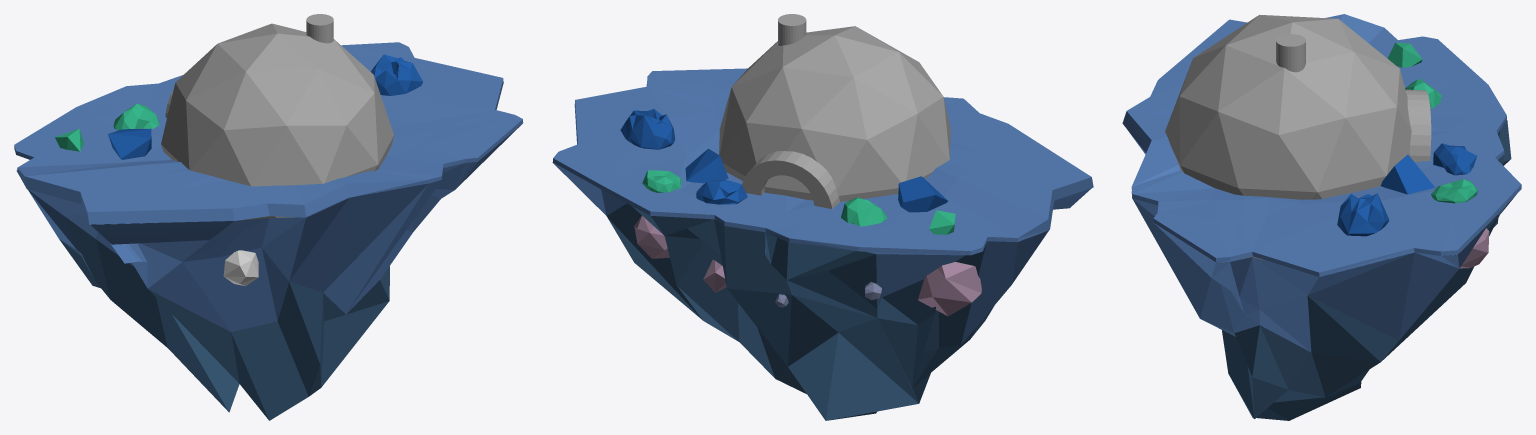
The model's file is island3_base.obj.
3 renders of one model, left to right at view 1: azimuth 30°, elevation 25°; view 2: azimuth 150°, elevation 25°; view 3: azimuth 270°, elevation 25°, orthographic. The views are drawn at different scales.
Parts seen in each view (by area): view 1: Plane.001_Plane.002, Icosphere.006_Icosphere.005, Icosphere.007_Icosphere.016, Icosphere.012_Icosphere.019, Icosphere.009_Icosphere.010, Icosphere.002_Icosphere.000, Cylinder.001_Cylinder.003; view 2: Plane.001_Plane.002, Icosphere.006_Icosphere.005, Icosphere.003, Cylinder_Cylinder.001, Icosphere.007_Icosphere.016, Icosphere.012_Icosphere.019, Icosphere.014_Icosphere.020, Icosphere.010_Icosphere.017, Icosphere.002_Icosphere.000, Cylinder.001_Cylinder.003, Icosphere.008_Icosphere.015, Icosphere.011_Icosphere.018; view 3: Plane.001_Plane.002, Icosphere.006_Icosphere.005, Icosphere.007_Icosphere.016, Cylinder_Cylinder.001, Icosphere.010_Icosphere.017, Icosphere.014_Icosphere.020, Cylinder.001_Cylinder.003, Icosphere.008_Icosphere.015, Icosphere.011_Icosphere.018, Icosphere.003, Icosphere.002_Icosphere.000.
Part boxes in pixels (left/top/right/bottom): Plane.001_Plane.002: left=14, top=42, right=523, bottom=420; Icosphere.006_Icosphere.005: left=161, top=23, right=393, bottom=220; Icosphere.007_Icosphere.016: left=370, top=54, right=422, bottom=95; Icosphere.012_Icosphere.019: left=108, top=128, right=151, bottom=159; Icosphere.009_Icosphere.010: left=223, top=250, right=258, bottom=286; Icosphere.002_Icosphere.000: left=113, top=103, right=159, bottom=130; Cylinder.001_Cylinder.003: left=306, top=14, right=333, bottom=43; Plane.001_Plane.002: left=552, top=68, right=1093, bottom=420; Icosphere.006_Icosphere.005: left=719, top=26, right=950, bottom=201; Icosphere.003: left=634, top=215, right=981, bottom=316; Cylinder_Cylinder.001: left=742, top=151, right=839, bottom=208; Icosphere.007_Icosphere.016: left=620, top=109, right=675, bottom=149; Icosphere.012_Icosphere.019: left=898, top=176, right=947, bottom=212; Icosphere.014_Icosphere.020: left=696, top=180, right=747, bottom=204; Icosphere.010_Icosphere.017: left=685, top=148, right=728, bottom=183; Icosphere.002_Icosphere.000: left=841, top=197, right=887, bottom=226; Cylinder.001_Cylinder.003: left=778, top=14, right=806, bottom=45; Icosphere.008_Icosphere.015: left=642, top=170, right=681, bottom=192; Icosphere.011_Icosphere.018: left=929, top=210, right=955, bottom=234; Plane.001_Plane.002: left=1122, top=14, right=1521, bottom=420; Icosphere.006_Icosphere.005: left=1165, top=14, right=1411, bottom=259; Icosphere.007_Icosphere.016: left=1337, top=193, right=1389, bottom=236; Cylinder_Cylinder.001: left=1405, top=89, right=1431, bottom=161; Icosphere.010_Icosphere.017: left=1380, top=154, right=1434, bottom=194; Icosphere.014_Icosphere.020: left=1433, top=143, right=1476, bottom=175; Cylinder.001_Cylinder.003: left=1276, top=34, right=1305, bottom=72; Icosphere.008_Icosphere.015: left=1431, top=179, right=1477, bottom=203; Icosphere.011_Icosphere.018: left=1387, top=42, right=1422, bottom=67; Icosphere.003: left=1460, top=228, right=1489, bottom=268; Icosphere.002_Icosphere.000: left=1405, top=79, right=1441, bottom=108.
Size of the model in its own units: 39.44 by 30.15 by 26.54.
